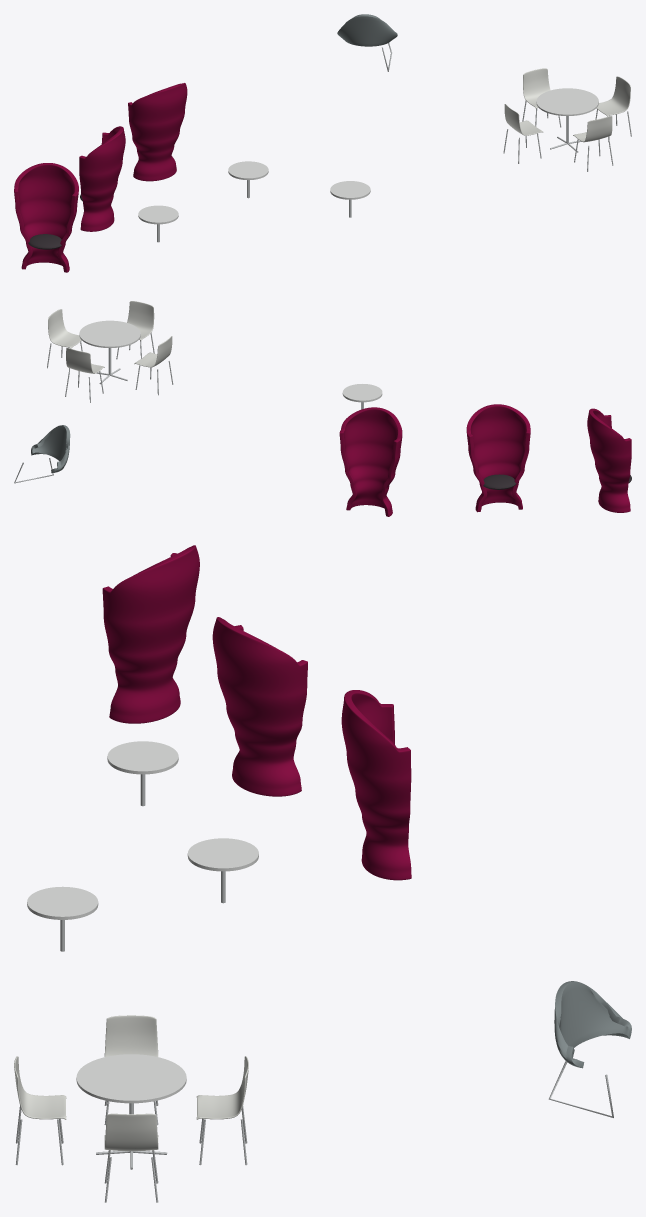
File: SM_L1_Furniture_Solid_0f4e0cbe73_1.fbx
3 renders of one model, top to bottom at view 1: azimuth 30°, elevation 25°; view 2: azimuth 150°, elevation 25°; view 3: azimuth 270°, elevation 25°, orthographic. The views are drawn at different scales.
Parts seen in each view (by area): view 1: SM_L1_Furniture_Solid_0f4e0cbe73_1; view 2: SM_L1_Furniture_Solid_0f4e0cbe73_1; view 3: SM_L1_Furniture_Solid_0f4e0cbe73_1.
Boxes of the visible parts, <box> form: SM_L1_Furniture_Solid_0f4e0cbe73_1: <box>14,14,631,272</box>; SM_L1_Furniture_Solid_0f4e0cbe73_1: <box>14,301,631,516</box>; SM_L1_Furniture_Solid_0f4e0cbe73_1: <box>14,545,631,1202</box>.
Bounding box in the file's own units: 10.63 × 5.38 × 1.6.
